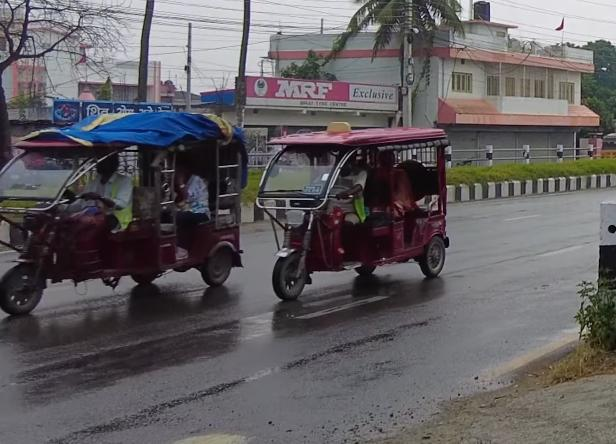e-rickshaw: (0, 111, 254, 321), (252, 121, 452, 301)
